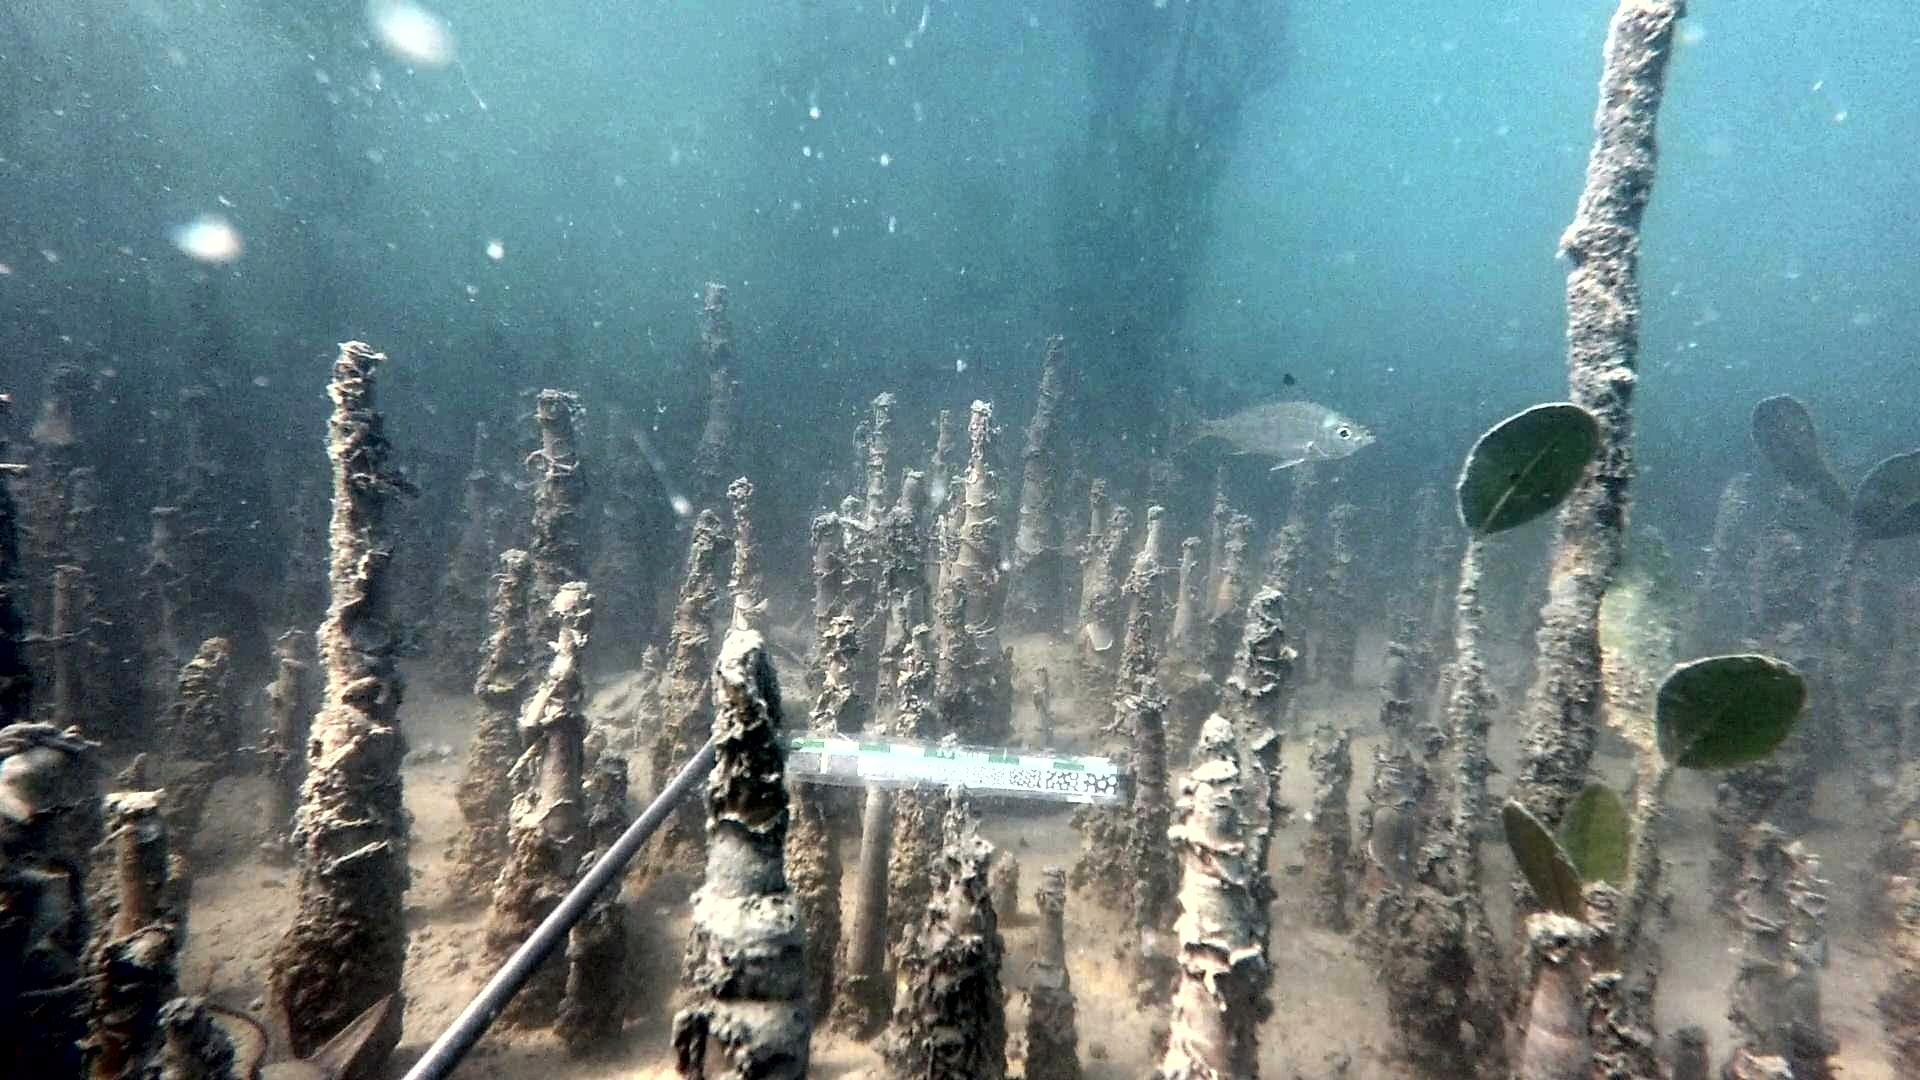gerres: (1166, 370, 1379, 473)
